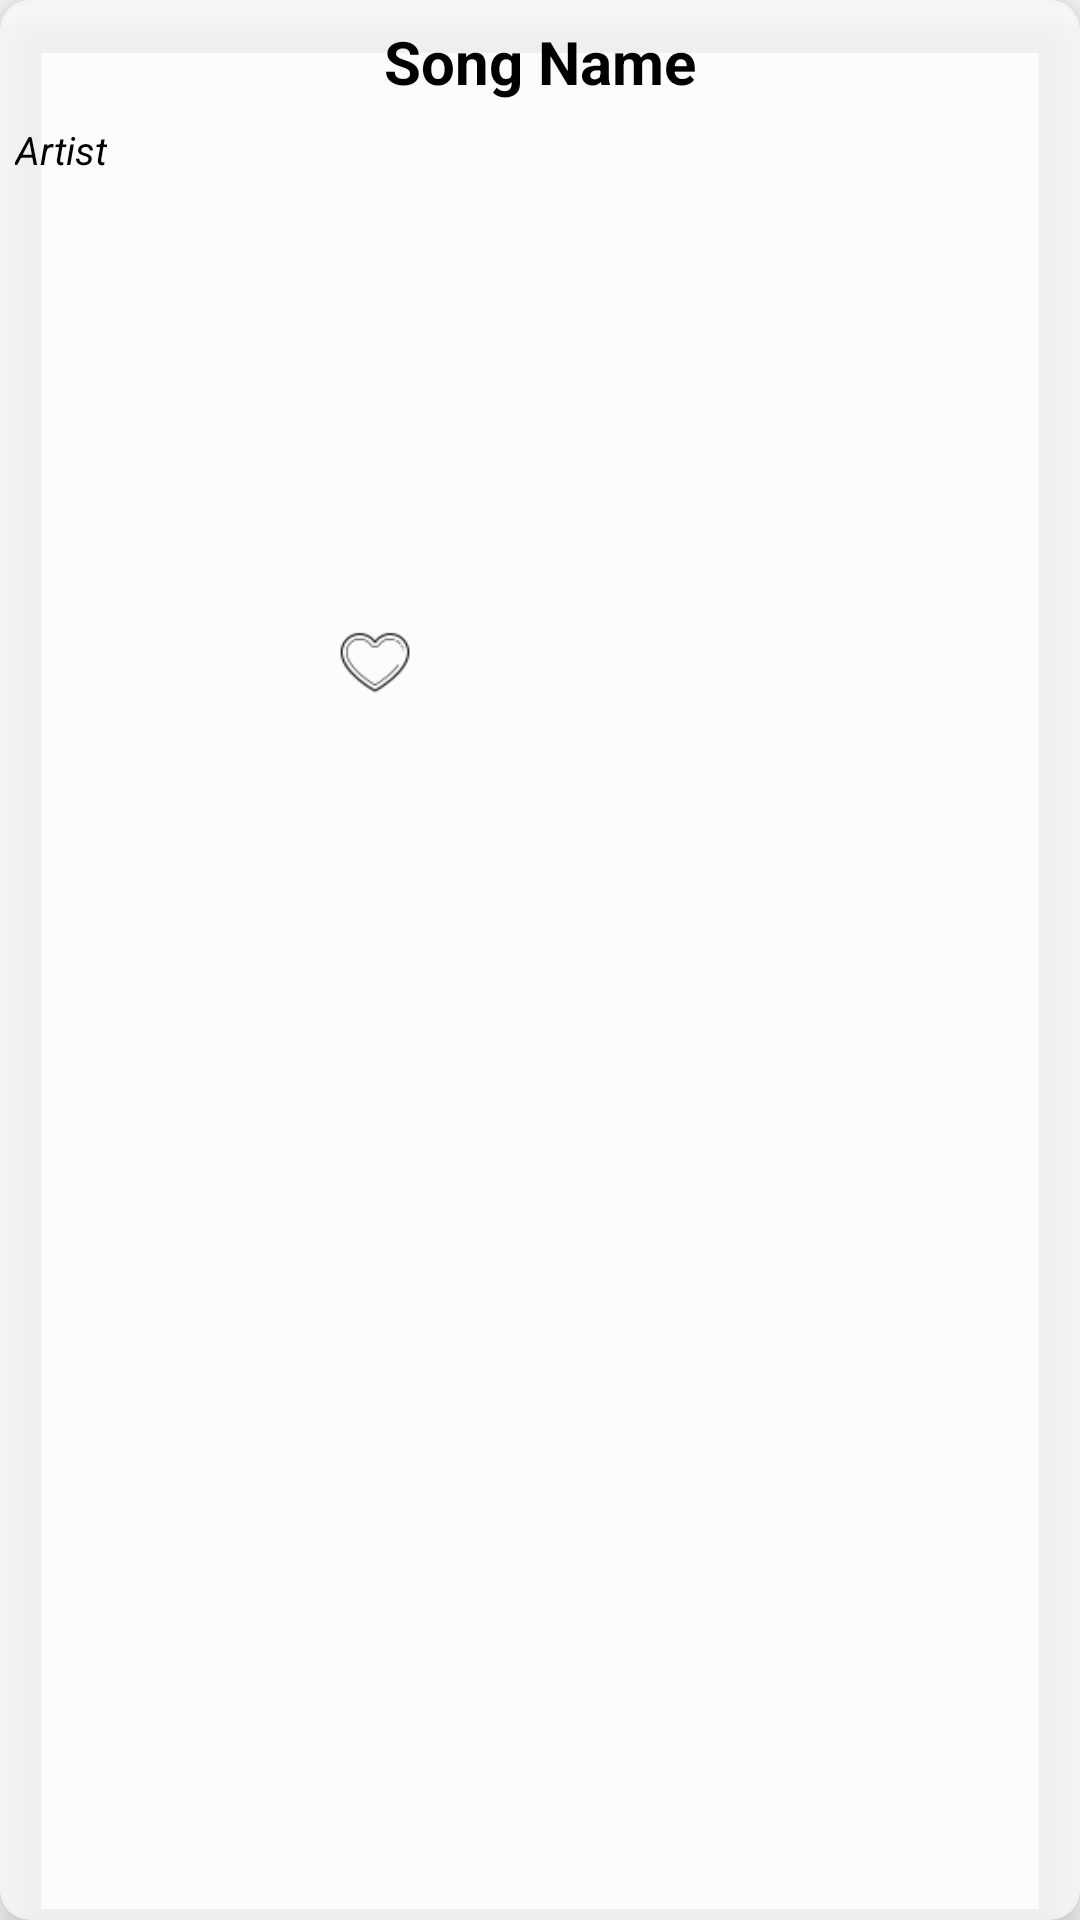

Locate icon controls on the screen. Image size 1080 x 1920, boxes as (x1, y1, x2, y2).
unfavorite: (340, 632, 410, 693)
